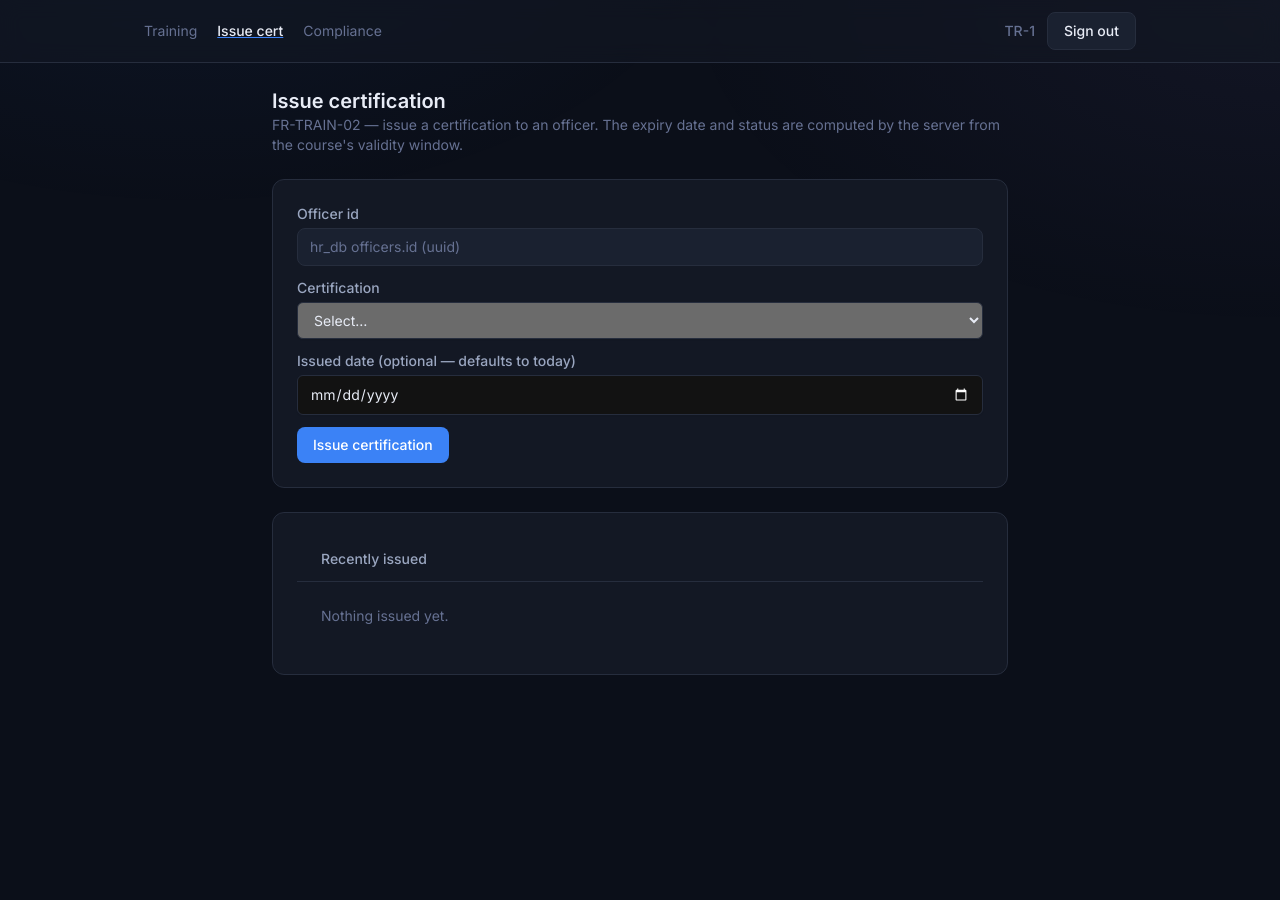
IssueCertificationPage › surfaces a 404 for an unknown certification_id
Type "0ffffff0-0000-0000-0000-000000000000" into the field labelled "Officer id" at (640, 247), box [297,228,983,266]
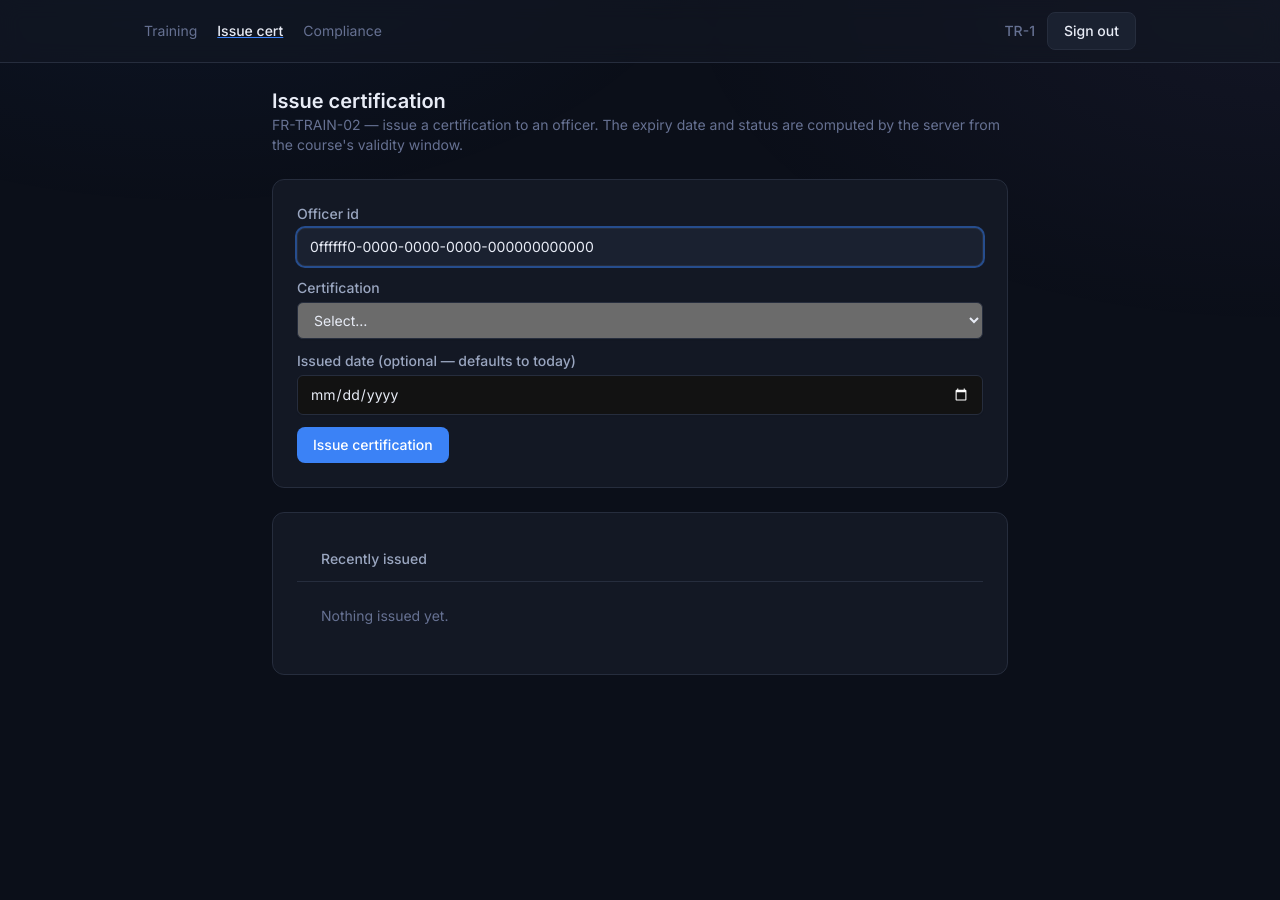
Select "#10 — First Aid" in the dropdown labelled "Certification" at (640, 320), box [297,302,983,339]
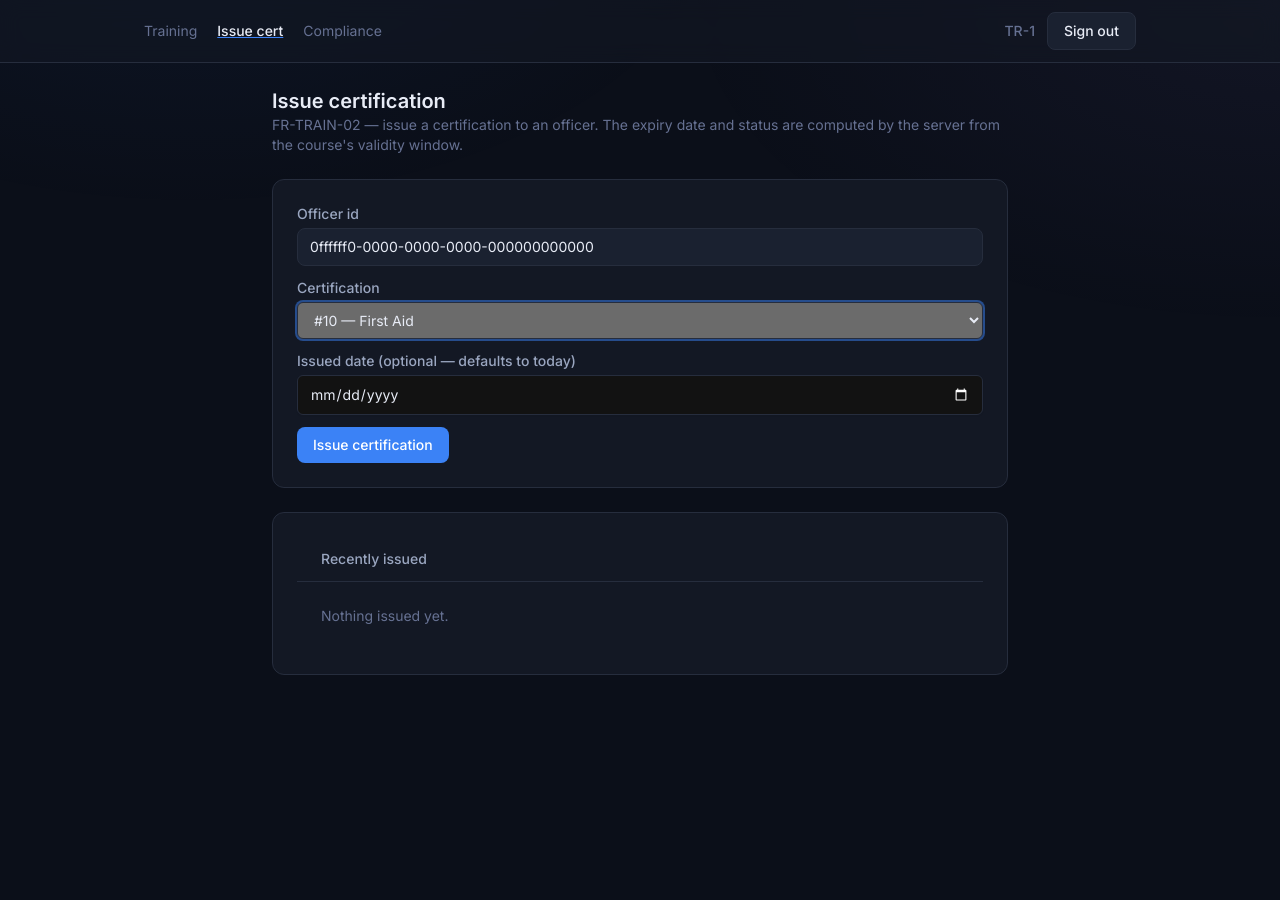
Click the button "Issue certification" at (373, 445), box [297,427,449,463]
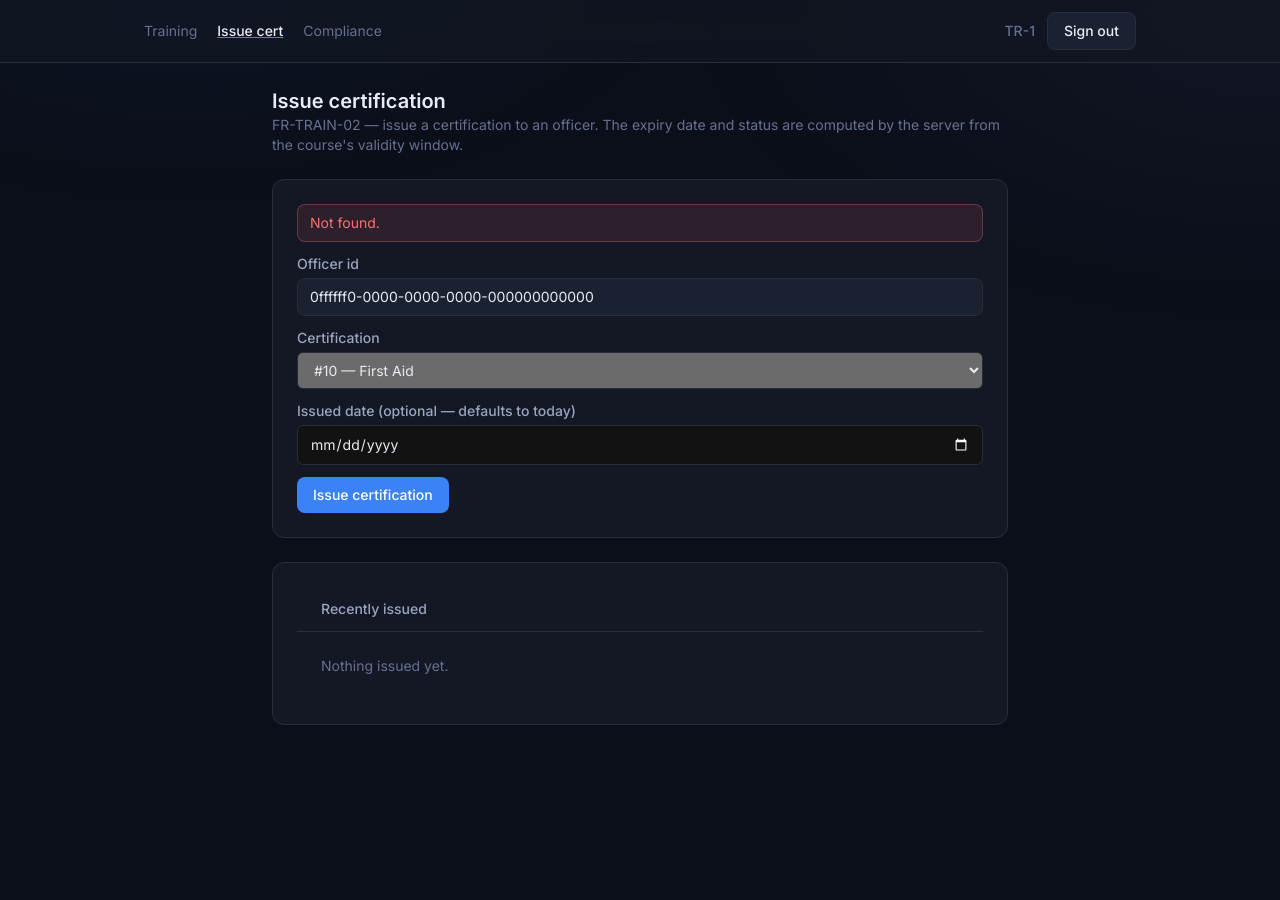
Check: the text "Not found." is shown, box [297,204,983,242]
